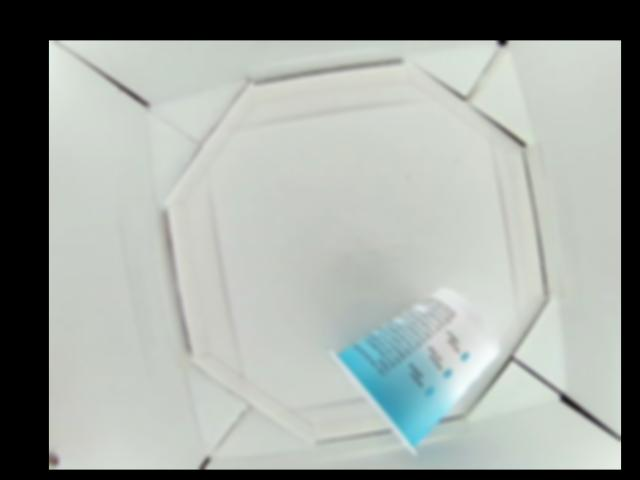Cup: (330, 284, 498, 452)
